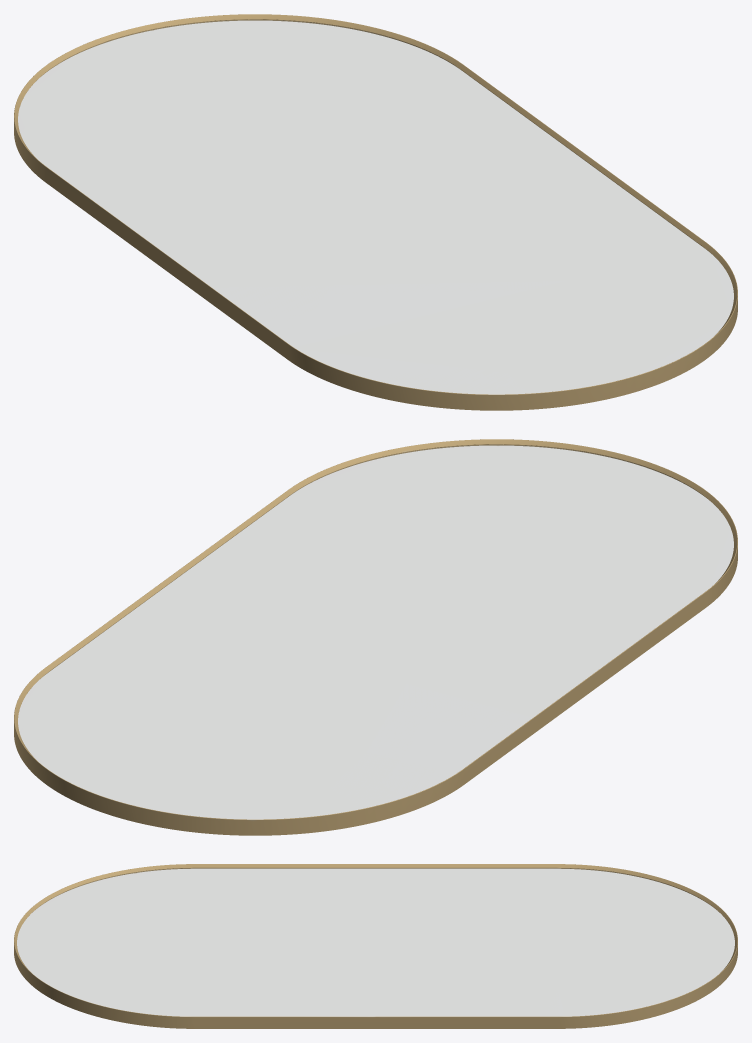
The model's file is 29 - LINDBYN Mirror - gold-colour 60x120 cm.glb.
3 views of the same model, one above another, from view 1: azimuth 30°, elevation 25°; view 2: azimuth 150°, elevation 25°; view 3: azimuth 270°, elevation 25° (orthographic). The views are drawn at different scales.
Parts seen in each view (by area): view 1: Mesh_0, Mesh_1; view 2: Mesh_0, Mesh_1; view 3: Mesh_0, Mesh_1.
Part boxes in pixels (<box>): Mesh_0: <box>14,14,737,410</box>; Mesh_1: <box>18,20,733,393</box>; Mesh_0: <box>14,439,737,835</box>; Mesh_1: <box>18,445,733,818</box>; Mesh_0: <box>14,864,737,1028</box>; Mesh_1: <box>17,869,734,1015</box>.
Bounding box in the file's own units: 0.5999 × 0.0219 × 1.2.
Materials: 2 (1 with a texture image).
